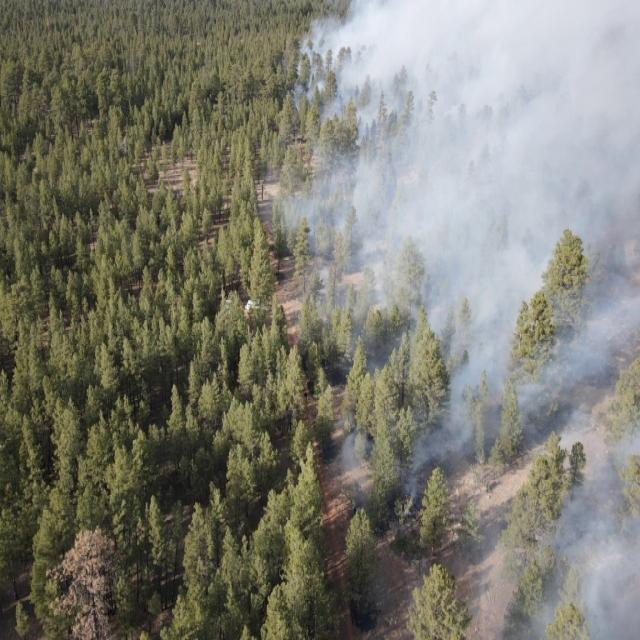smoke: (290, 0, 640, 490), (366, 490, 640, 640)
